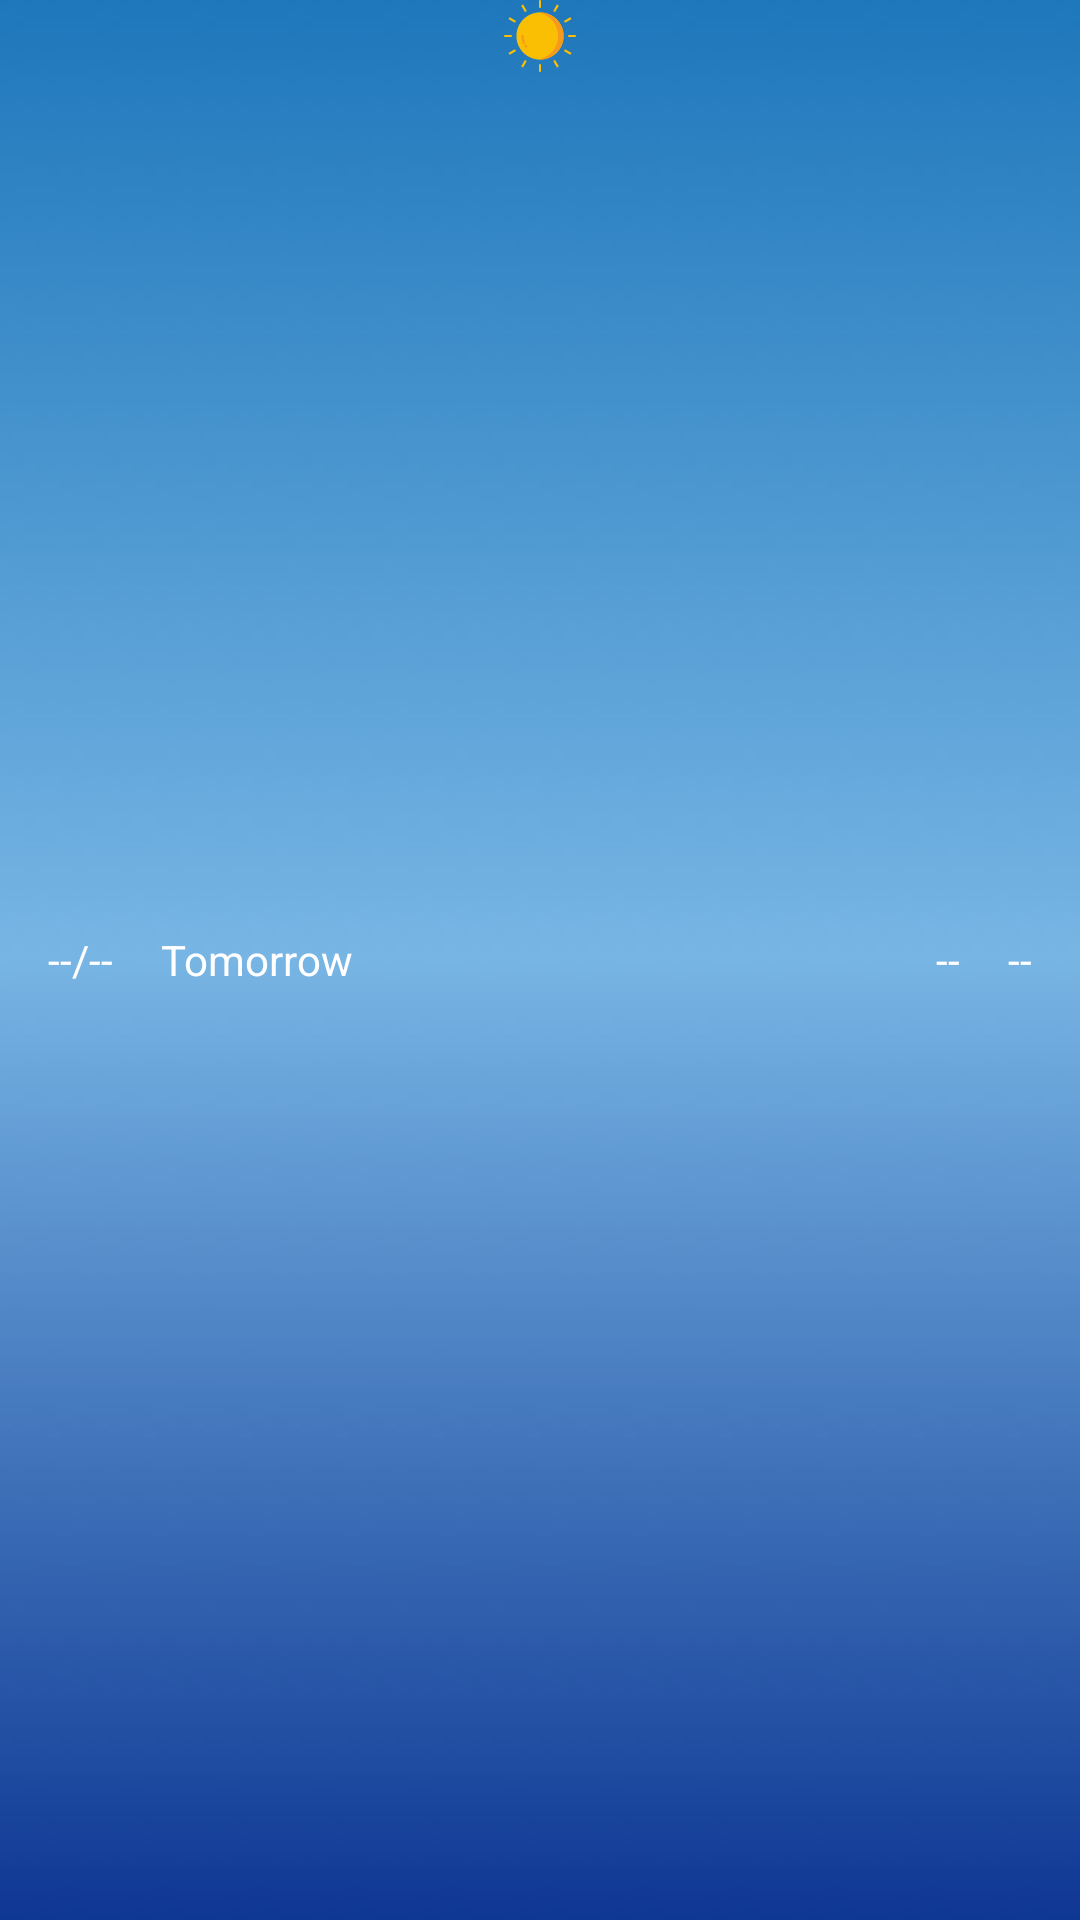

Where to tap for icons on this 1080px×1920px app screen, as point (x, y):
weather sun: point (540, 36)
